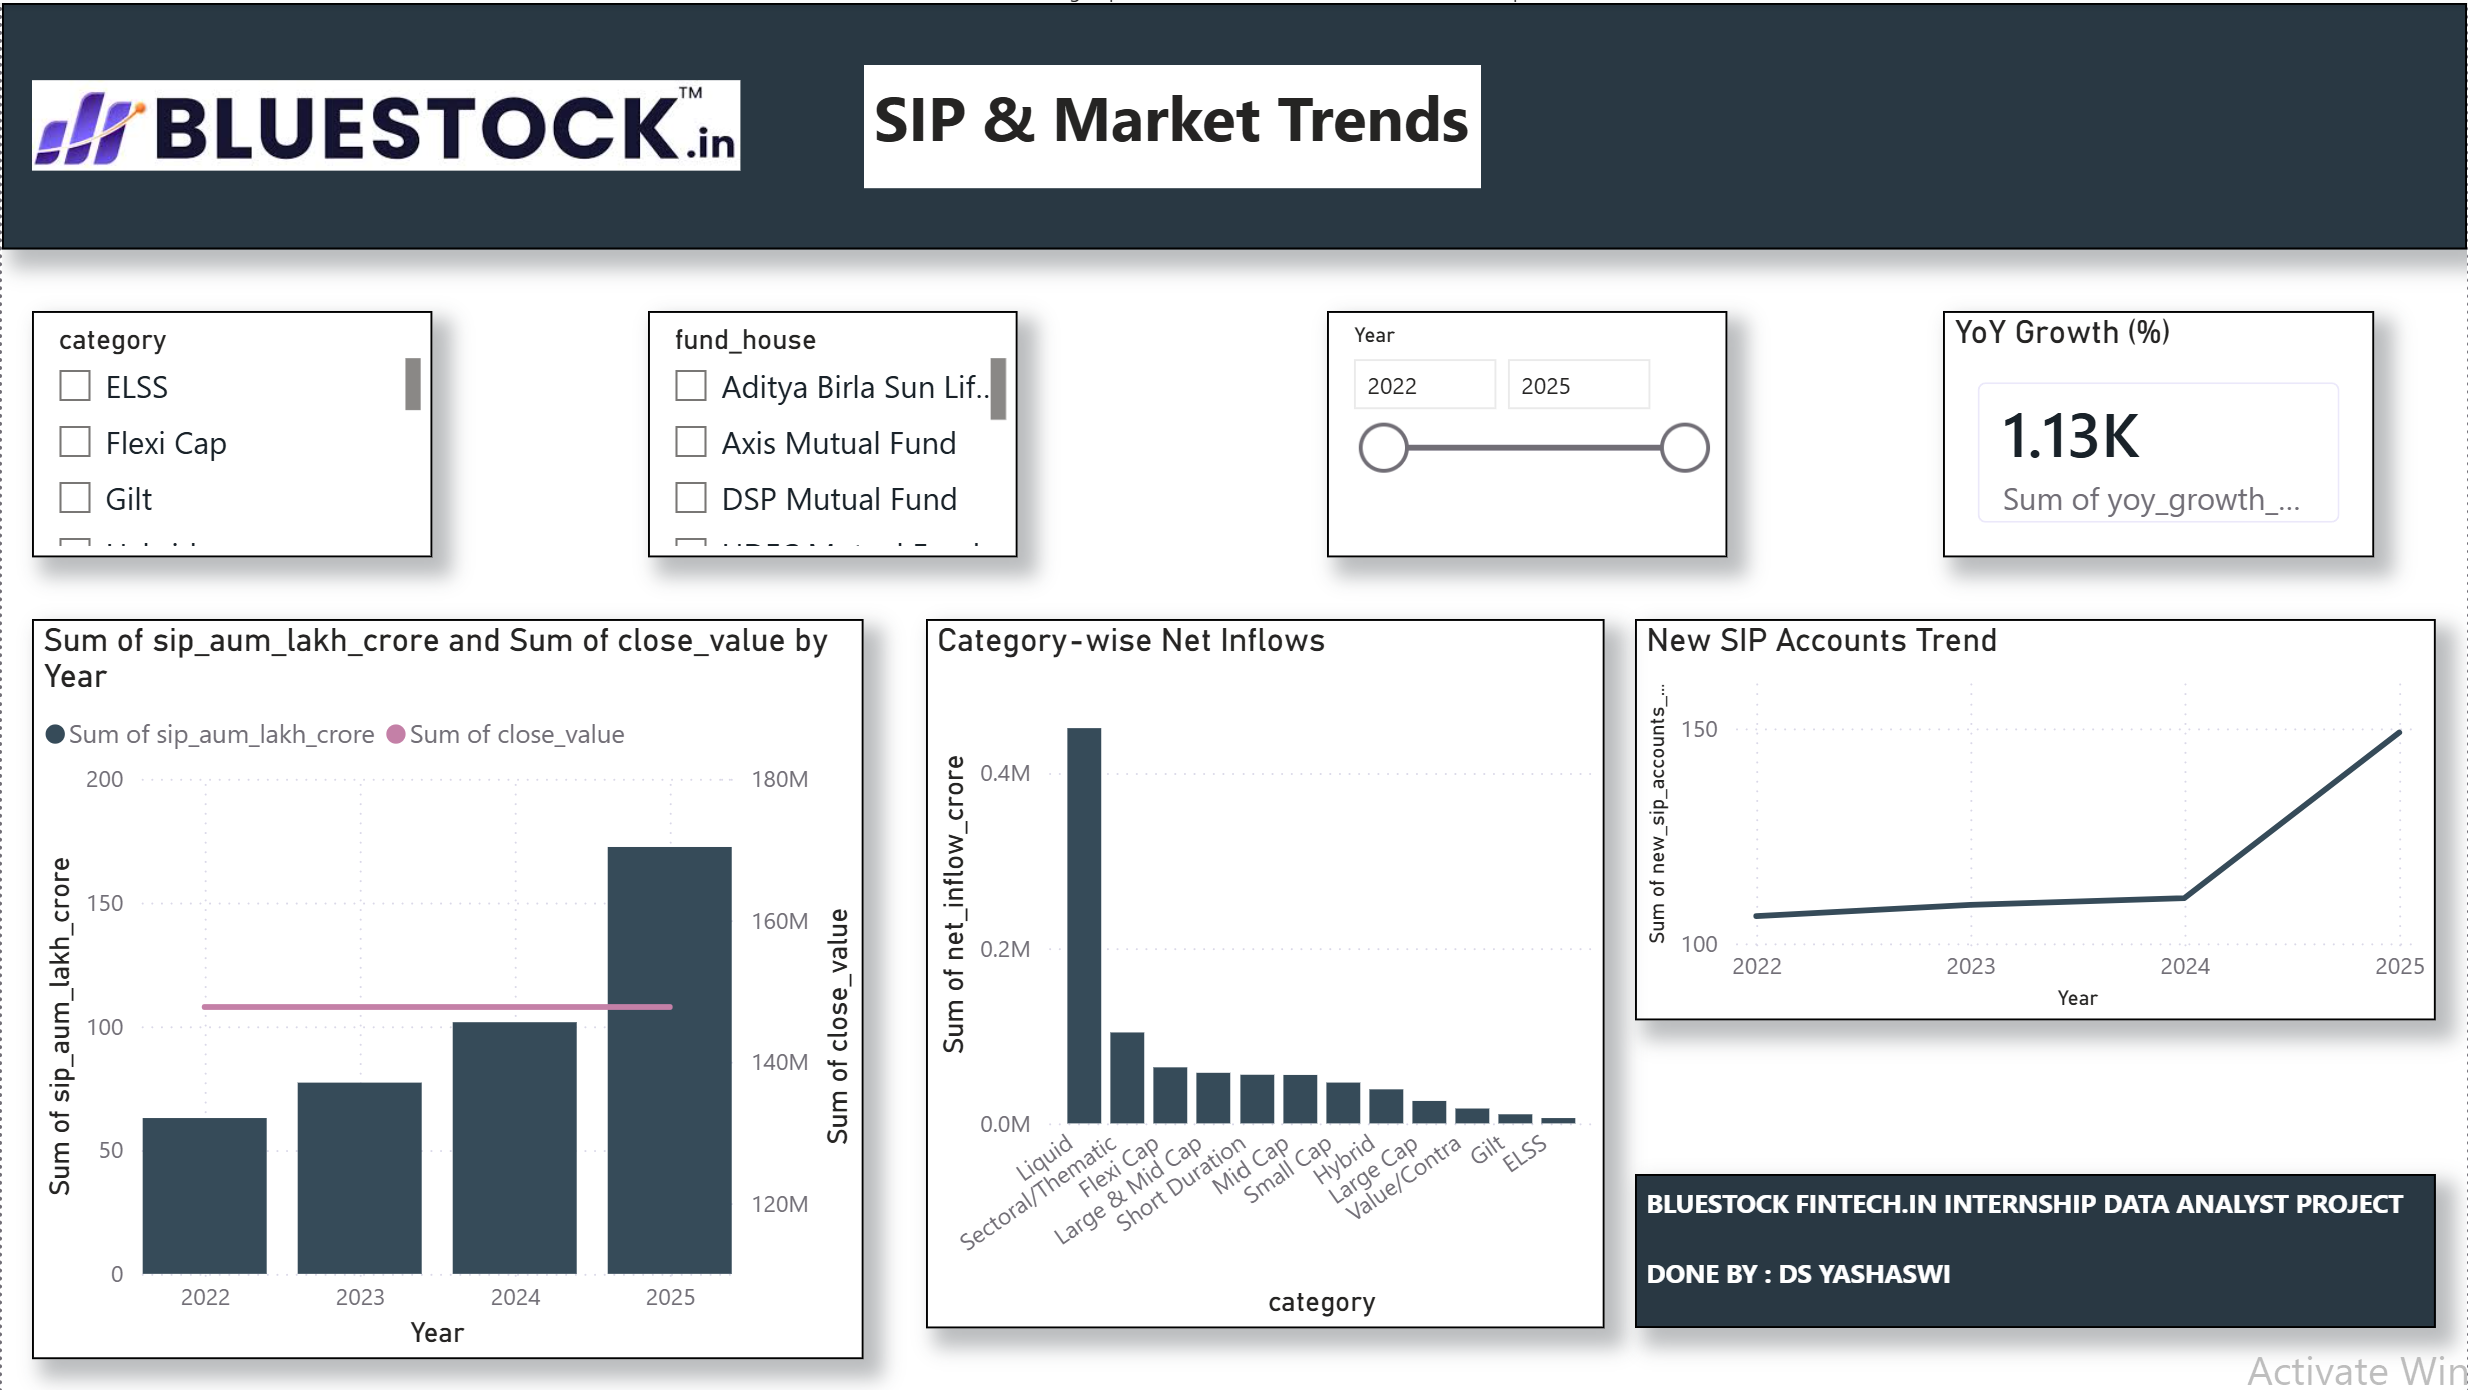

The page's visual inventory and layout, read from the dashboard file:
{"tool":"powerbi","page":{"name":"SIP & Market Trends","canvas":[1280,720],"ordinal":3},"visuals":[{"type":"lineClusteredColumnComboChart","fields":{"Category":["04_monthly_sip_inflows.month.Variation.Date Hierarchy.Year"],"Y":["Sum(04_monthly_sip_inflows.sip_aum_lakh_crore)"],"Y2":["Sum(10_benchmark_indices.close_value)"]},"box":[16,320,432,384],"z":0},{"type":"lineChart","title":"New SIP Accounts Trend","fields":{"Category":["04_monthly_sip_inflows.month.Variation.Date Hierarchy.Year"],"Y":["Sum(04_monthly_sip_inflows.new_sip_accounts_lakh)"]},"box":[848,320,416,208],"z":1},{"type":"clusteredColumnChart","title":"Category-wise Net Inflows","fields":{"Category":["05_category_inflows.category"],"Y":["Sum(05_category_inflows.net_inflow_crore)"]},"box":[480,320,352,368],"z":2},{"type":"cardVisual","title":"YoY Growth (%)","fields":{"Data":["Sum(04_monthly_sip_inflows.yoy_growth_pct)"]},"box":[1008,160,224,128],"z":3},{"type":"slicer","fields":{"Values":["05_category_inflows.category"]},"box":[16,160,208,128],"z":4},{"type":"slicer","fields":{"Values":["04_monthly_sip_inflows.month.Variation.Date Hierarchy.Year"]},"box":[688,160,208,128],"z":5},{"type":"slicer","fields":{"Values":["03_aum_by_fund_house.fund_house"]},"box":[336,160,192,128],"z":6},{"type":"textbox","box":[0,0,1280,128],"z":7},{"type":"image","box":[16,16,368,96],"z":8},{"type":"textbox","box":[448,32,320,64],"z":9},{"type":"textbox","box":[848,608,416,80],"z":10}]}

Visuals, with their boxes in screenshot pixels (x1, y1, x2, y2), scaled from the page's 1280x720 canvas onto the 2468x1390 screenshot:
lineClusteredColumnComboChart - 04_monthly_sip_inflows.month.Variation.Date Hierarchy.Year x Sum(04_monthly_sip_inflows.sip_aum_lakh_crore): (left=31, top=618, right=864, bottom=1359)
"New SIP Accounts Trend" lineChart: (left=1635, top=618, right=2437, bottom=1019)
"Category-wise Net Inflows" clusteredColumnChart: (left=926, top=618, right=1604, bottom=1328)
"YoY Growth (%)" cardVisual: (left=1944, top=309, right=2375, bottom=556)
slicer - 05_category_inflows.category: (left=31, top=309, right=432, bottom=556)
slicer - 04_monthly_sip_inflows.month.Variation.Date Hierarchy.Year: (left=1327, top=309, right=1728, bottom=556)
slicer - 03_aum_by_fund_house.fund_house: (left=648, top=309, right=1018, bottom=556)
textbox: (left=0, top=0, right=2467, bottom=247)
image: (left=31, top=31, right=740, bottom=216)
textbox: (left=864, top=62, right=1481, bottom=185)
textbox: (left=1635, top=1174, right=2437, bottom=1328)
